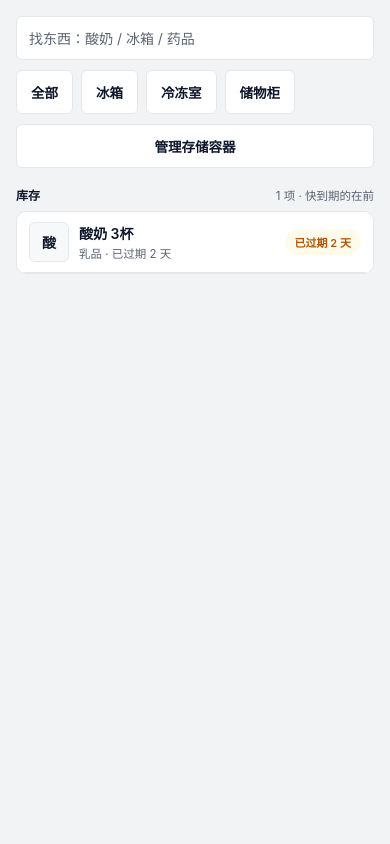
Test: 界面不许出现内部字段/表名（用户看到的只能是中文业务词） › 物品详情：流水类型显示中文（入库/领用），数量不再是空白
This screenshot has width=390, height=844.
Click the text "酸奶 3杯": coordinates (106, 234) [79,225,133,242]
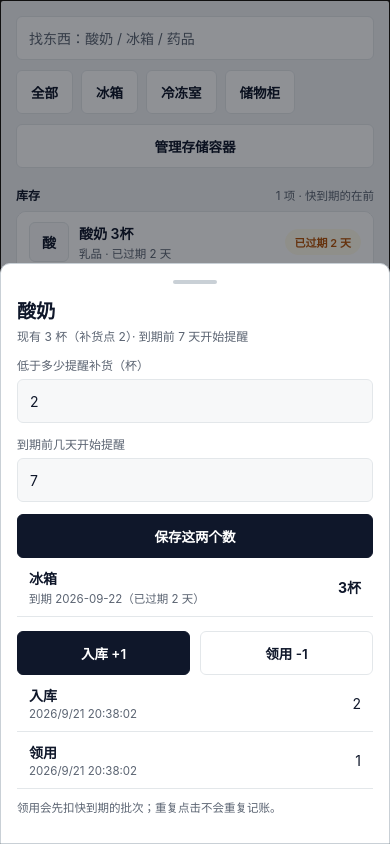
Expected: the text "现有 3 杯（补货点 2）· 到期前 7 天开始提醒" is shown, [17,329,248,344]
Expected: the text "入库" is shown, [29,687,57,704]
Expected: the text "领用" is shown, [29,744,57,761]
